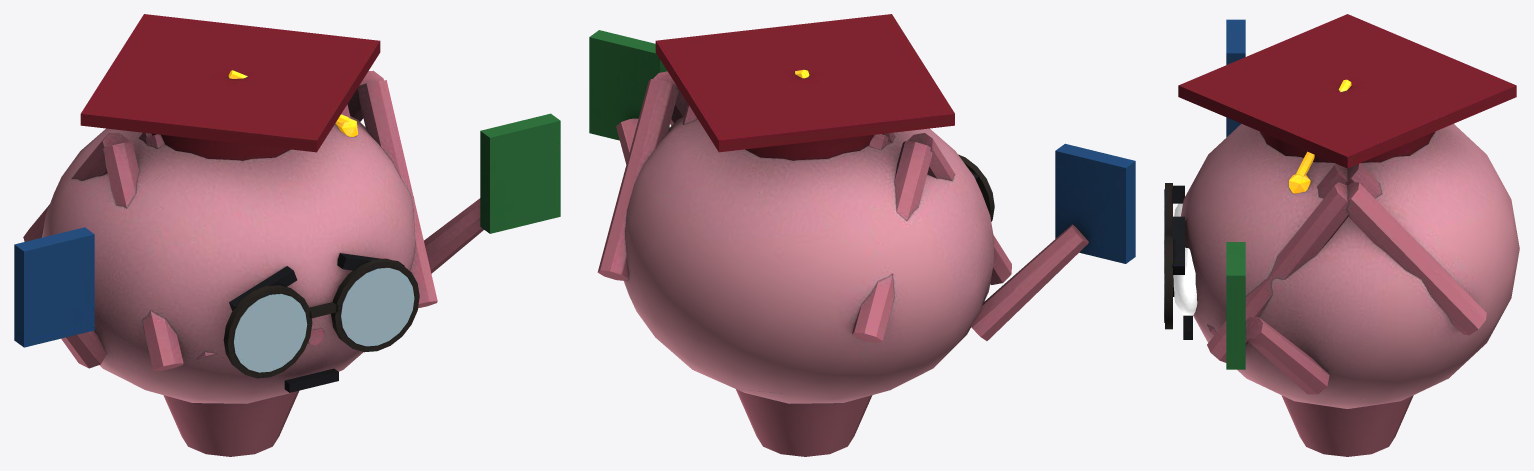
File: jefe_cerebro.glb
3 views of the same model, side by side, from view 1: azimuth 30°, elevation 25°; view 2: azimuth 150°, elevation 25°; view 3: azimuth 270°, elevation 25° (orthographic). The views are drawn at different scales.
Visible parts, largest first — view 1: jefe_cerebro; view 2: jefe_cerebro; view 3: jefe_cerebro.
Boxes of the visible parts, x1,y1,x2,y2 form: jefe_cerebro: [14, 14, 560, 456]; jefe_cerebro: [589, 14, 1135, 456]; jefe_cerebro: [1164, 14, 1519, 456].
Bounding box in the file's own units: 3.8 × 2.48 × 2.23.
Materials: 1 (1 with a texture image).
